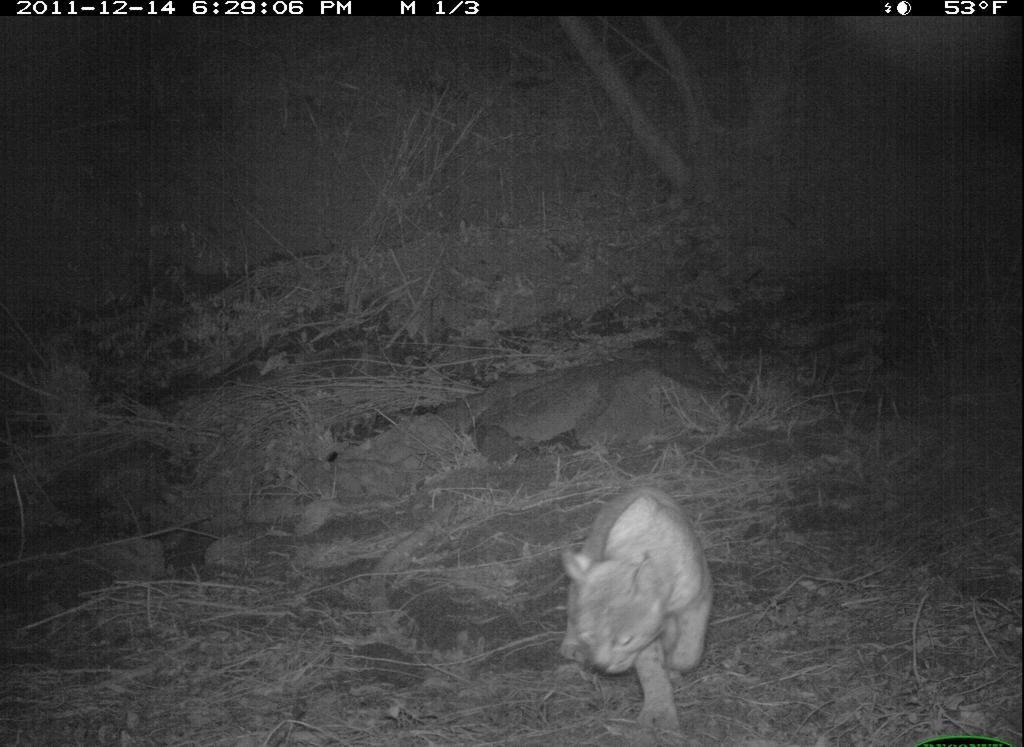bobcat: (542, 463, 722, 739)
